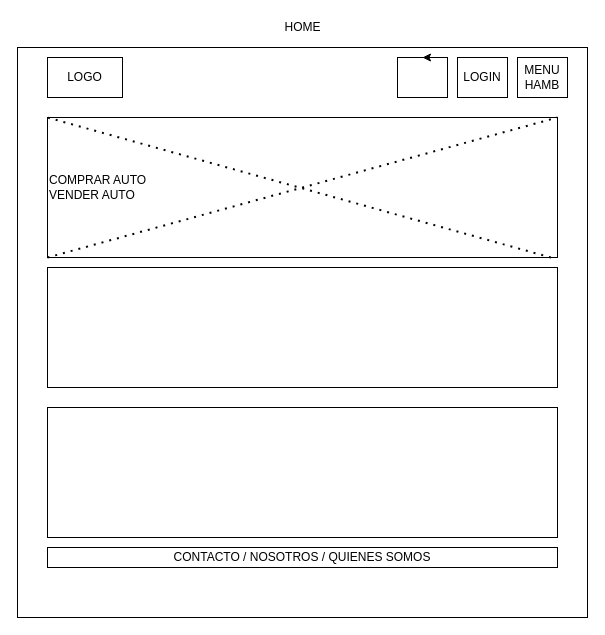
This 605x635 diagram has some shape labels left out. The shapes that lost their labels are listed below. From the top down, each one's centre as x and y in pixels, then its label:
At (x=422, y=77): "LUPA".
At (x=302, y=327): "MARKETING -POR QUE COMPRAR EN ESTE SITIO , GARANTIAS DE CONFIANZA".
At (x=302, y=472): "DESTACADOS".
